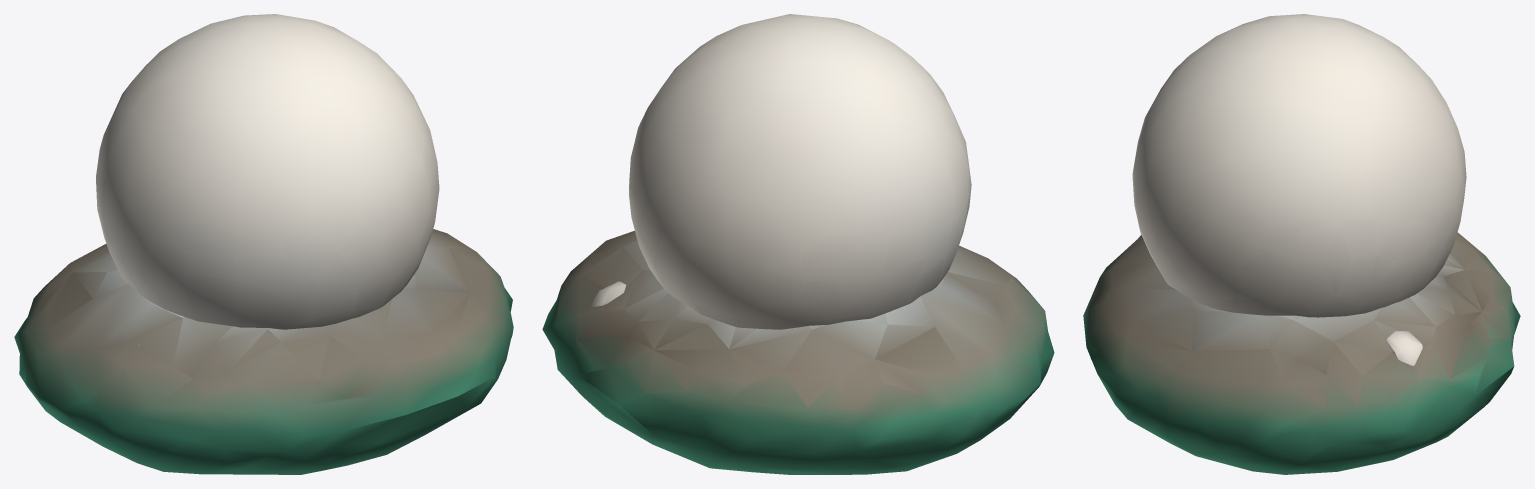
The model's file is grotto_giant_pearl_lod1.glb.
3 renders of one model, left to right at view 1: azimuth 30°, elevation 25°; view 2: azimuth 150°, elevation 25°; view 3: azimuth 270°, elevation 25°, orthographic. The views are drawn at different scales.
Visible parts, largest first — view 1: grotto_giant_pearl.001; view 2: grotto_giant_pearl.001; view 3: grotto_giant_pearl.001.
Part boxes in pixels (<box>): grotto_giant_pearl.001: <box>14,14,513,474</box>; grotto_giant_pearl.001: <box>542,14,1054,474</box>; grotto_giant_pearl.001: <box>1083,14,1520,474</box>.
Size of the model in its own units: 6.12 by 5.18 by 5.23.
